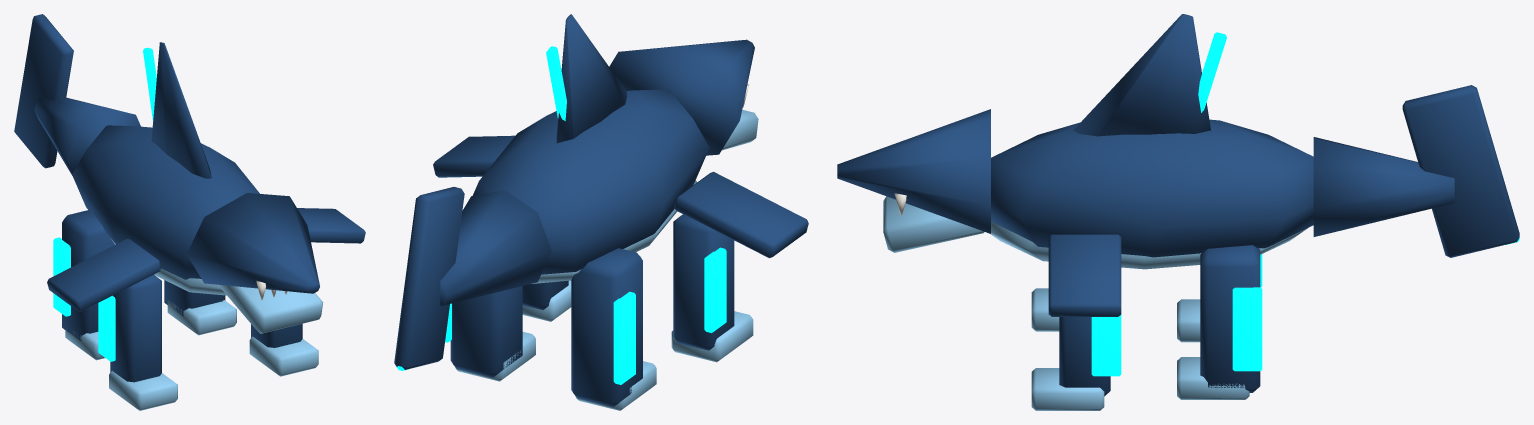
File: shark.glb
3 views of the same model, side by side, from view 1: azimuth 30°, elevation 25°; view 2: azimuth 150°, elevation 25°; view 3: azimuth 270°, elevation 25° (orthographic). The views are drawn at different scales.
Parts seen in each view (by area): view 1: Body, Head, Tail, AmphibiousLeg_FL, LeftArm, LeftLeg, AmphibiousLeg_FR, RightLeg, RightArm; view 2: Body, Tail, LeftLeg, Head, AmphibiousLeg_FL, RightLeg, LeftArm, RightArm, AmphibiousLeg_FR; view 3: Body, Tail, Head, RightLeg, AmphibiousLeg_FR, RightArm, LeftLeg, AmphibiousLeg_FL.
Part boxes in pixels (x1,y1,x2,y2): Body: (72, 42, 259, 295); Head: (186, 193, 323, 333); Tail: (14, 14, 140, 175); AmphibiousLeg_FL: (98, 274, 177, 410); LeftArm: (47, 238, 160, 311); LeftLeg: (53, 210, 114, 360); AmphibiousLeg_FR: (249, 323, 318, 376); RightLeg: (164, 280, 236, 335); RightArm: (297, 208, 365, 243); Body: (472, 14, 709, 283); Tail: (394, 187, 551, 370); LeftLeg: (571, 248, 656, 410); Head: (609, 39, 758, 155); AmphibiousLeg_FL: (671, 214, 753, 362); RightLeg: (445, 286, 535, 381); LeftArm: (674, 171, 808, 258); RightArm: (433, 135, 514, 177); AmphibiousLeg_FR: (522, 280, 571, 321); Body: (990, 14, 1313, 269); Tail: (1313, 85, 1519, 257); Head: (837, 109, 990, 252); RightLeg: (1177, 245, 1262, 399); AmphibiousLeg_FR: (1031, 315, 1121, 410); RightArm: (1048, 234, 1121, 316); LeftLeg: (1177, 254, 1262, 342); AmphibiousLeg_FL: (1031, 288, 1059, 331).
Size of the model in its own units: 1.82 by 1.79 by 3.19.
